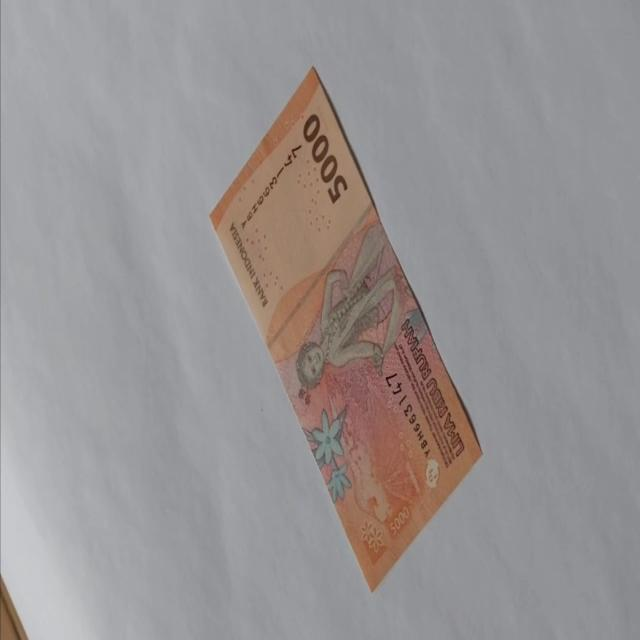lima ribu rupiah: (208, 64, 484, 593)
